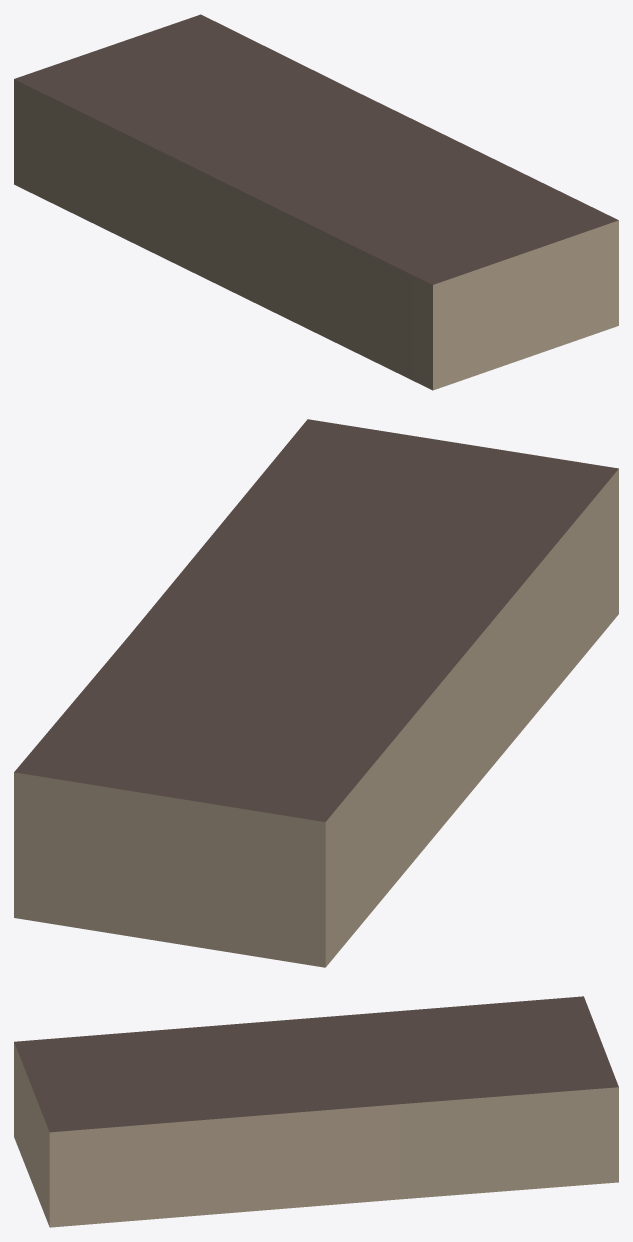
3 views of the same model, one above another, from view 1: azimuth 30°, elevation 25°; view 2: azimuth 150°, elevation 25°; view 3: azimuth 270°, elevation 25° (orthographic). The views are drawn at different scales.
Parts seen in each view (by area): view 1: HP-w1196661450; view 2: HP-w1196661450; view 3: HP-w1196661450.
Boxes of the visible parts, left/top/right/bottom form: HP-w1196661450: left=14, top=14, right=618, bottom=390; HP-w1196661450: left=14, top=419, right=618, bottom=967; HP-w1196661450: left=14, top=996, right=618, bottom=1227.
Size of the model in its own units: 27.58 by 9 by 51.82.
